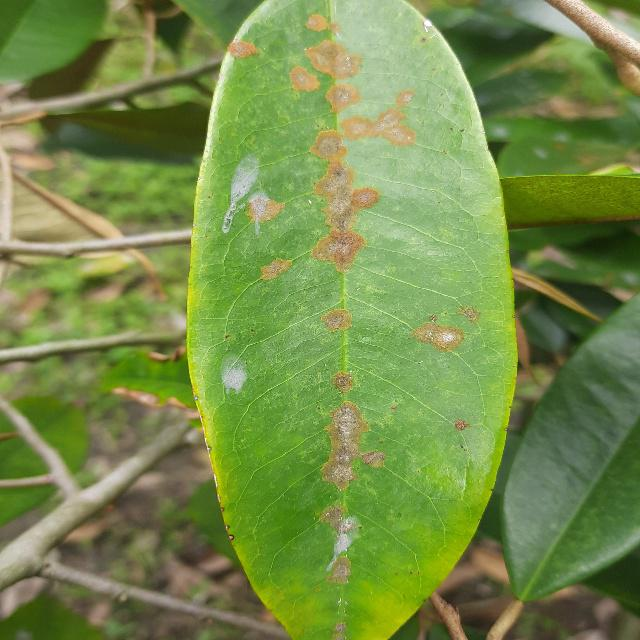Algal Leaf Spot: (179, 0, 532, 639)
